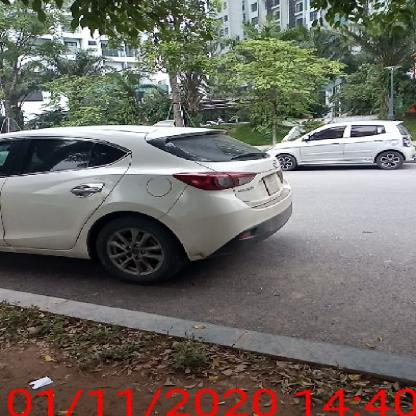biensoxe: (261, 170, 285, 194)
